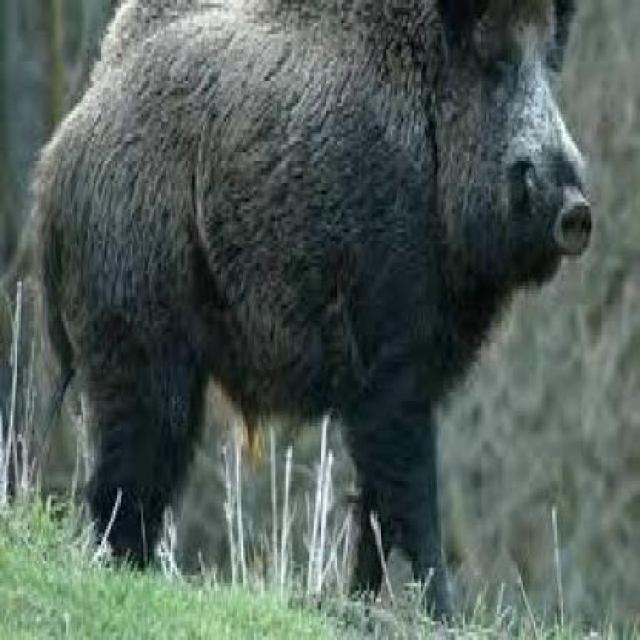wildboar: (24, 0, 594, 611)
